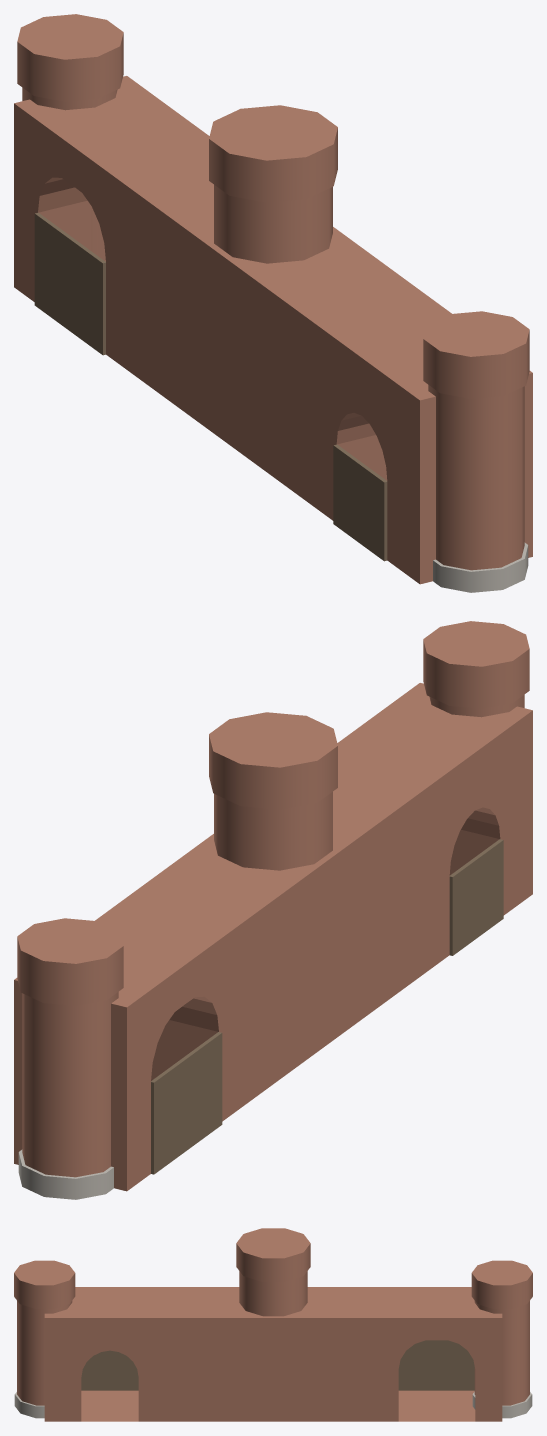
File: portal_lisewo_1912.lod1.glb
The picture shows the model from 3 angles, top to bottom: view 1: azimuth 30°, elevation 25°; view 2: azimuth 150°, elevation 25°; view 3: azimuth 270°, elevation 25°; orthographic projection. The views are drawn at different scales.
Visible parts, largest first — view 1: portal_lisewo_1912, gate_rail_right, gate_rail_left, gate_road_right, gate_road_left; view 2: portal_lisewo_1912, gate_rail_left, gate_rail_right, gate_road_left, gate_road_right; view 3: portal_lisewo_1912, gate_rail_right, gate_rail_left, gate_road_left, gate_road_right.
Boxes of the visible parts, x1,y1,x2,y2 form: portal_lisewo_1912: (14, 14, 532, 592); gate_rail_right: (69, 237, 105, 355); gate_rail_left: (34, 212, 72, 330); gate_road_right: (359, 463, 387, 561); gate_road_left: (333, 444, 361, 542); portal_lisewo_1912: (14, 621, 532, 1199); gate_rail_left: (151, 1057, 187, 1174); gate_rail_right: (184, 1032, 222, 1149); gate_road_left: (449, 858, 477, 955); gate_road_right: (474, 839, 503, 937); portal_lisewo_1912: (14, 1228, 532, 1421); gate_rail_right: (398, 1340, 436, 1390); gate_rail_left: (437, 1340, 474, 1390); gate_road_left: (110, 1350, 138, 1390); gate_road_right: (81, 1350, 109, 1390).
Bounding box in the file's own units: 9.25 × 22 × 63.5.
